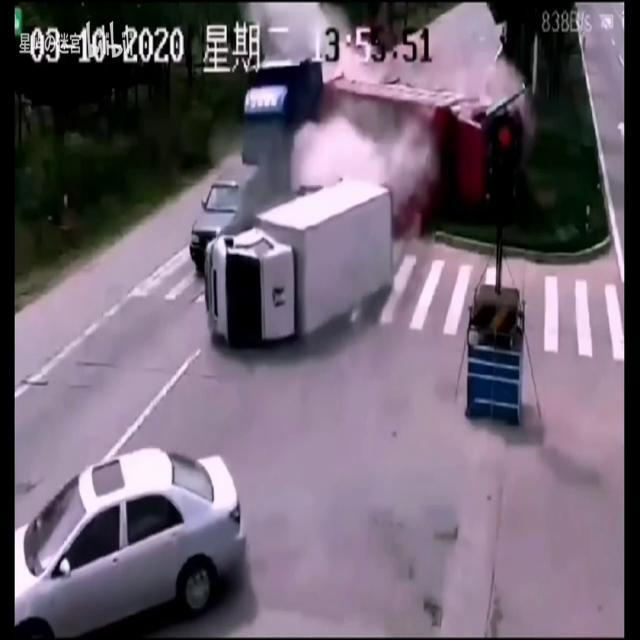accident: (210, 66, 516, 340), (208, 182, 390, 342), (326, 68, 518, 204)
